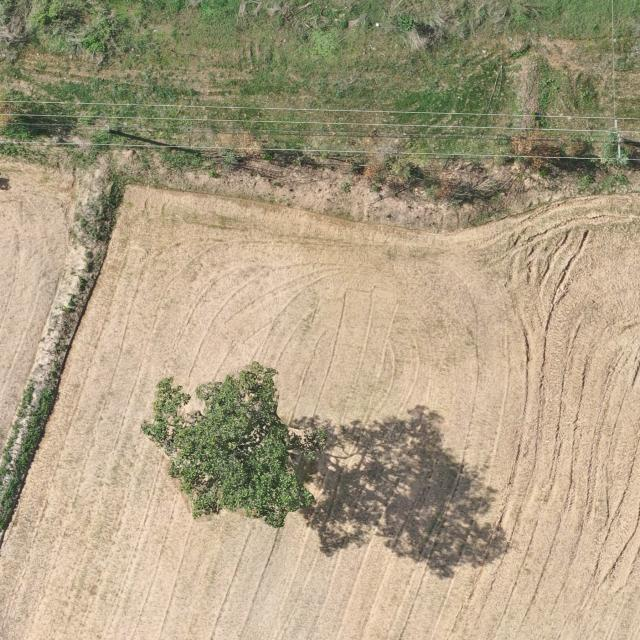Tree: (139, 357, 332, 530)
